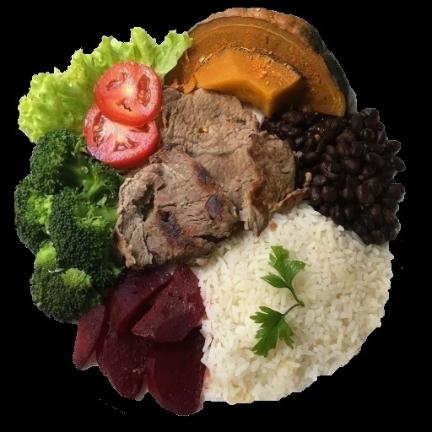beans: (262, 110, 404, 243)
beet: (74, 265, 204, 413)
broccoli: (15, 129, 125, 321)
meat: (115, 89, 300, 268)
rice: (192, 203, 392, 403)
salad: (19, 27, 191, 142)
tomato: (83, 62, 162, 169)
